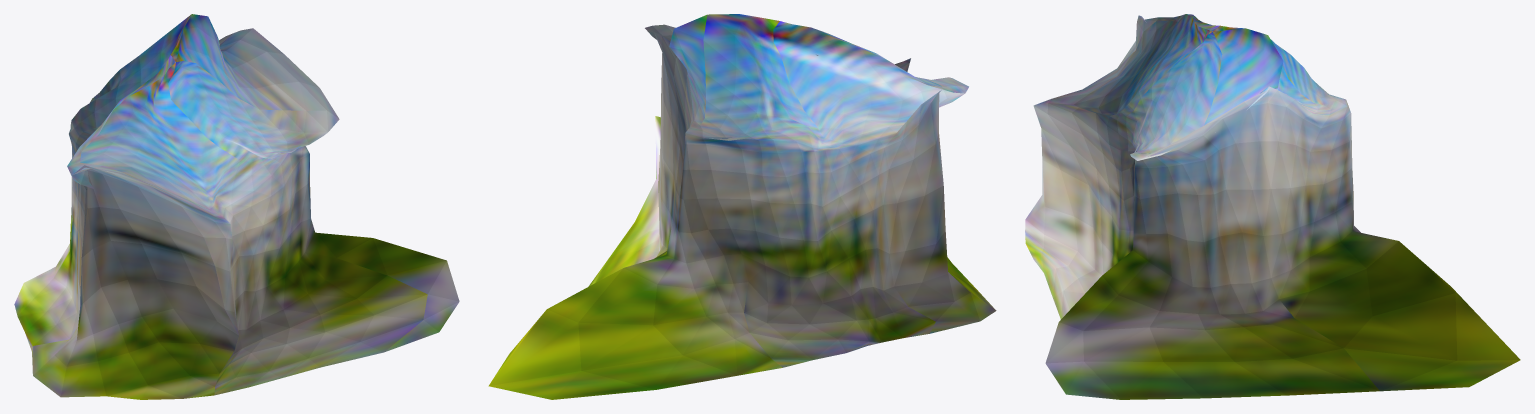
Rendered from futuristic_modern_residential_house.gltf.
The picture shows the model from 3 angles, left to right: view 1: azimuth 30°, elevation 25°; view 2: azimuth 150°, elevation 25°; view 3: azimuth 270°, elevation 25°; orthographic projection. The views are drawn at different scales.
Visible parts, largest first — view 1: pMesh1; view 2: pMesh1; view 3: pMesh1.
Part boxes in pixels (x1,y1,x2,y2): pMesh1: [14, 14, 459, 399]; pMesh1: [488, 14, 996, 399]; pMesh1: [1025, 14, 1520, 399].
Bounding box in the file's own units: 2.99 × 2.36 × 3.45.
Materials: 1 (1 with a texture image).
